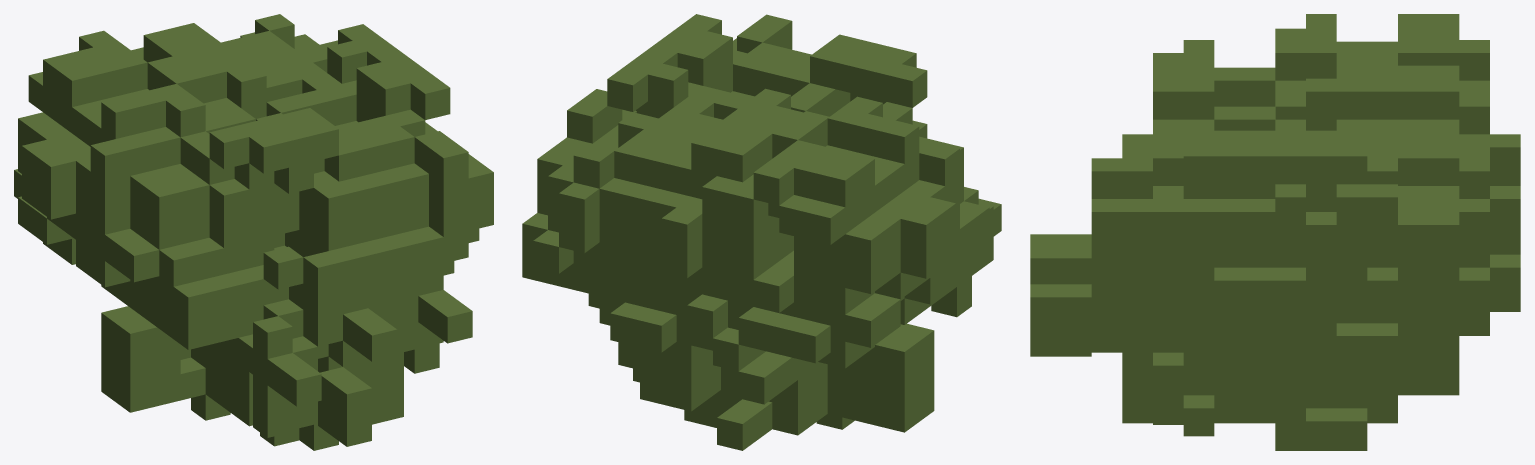
Rendered from good-3.obj.
3 renders of one model, left to right at view 1: azimuth 30°, elevation 25°; view 2: azimuth 150°, elevation 25°; view 3: azimuth 270°, elevation 25°, orthographic. The views are drawn at different scales.
Bounding box in the file's own units: 1.4 × 1.2 × 1.6.
Materials: 1 (1 with a texture image).
